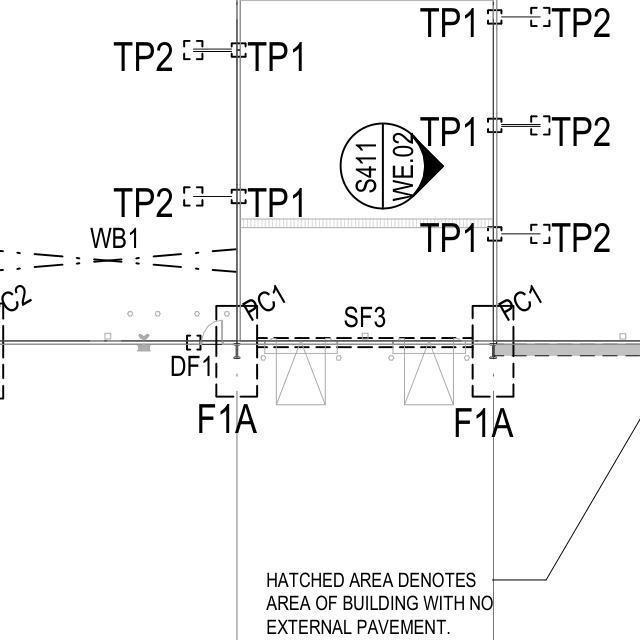DF1: (157, 338, 216, 382)
F1A: (191, 389, 275, 444), (448, 403, 536, 446)
SF3: (332, 285, 393, 333)
TP1: (238, 176, 314, 223), (408, 97, 487, 142), (248, 31, 324, 74), (418, 209, 487, 252), (412, 0, 477, 36)
TP2: (550, 211, 638, 262), (103, 27, 177, 72), (548, 101, 614, 142), (548, 0, 622, 36), (114, 182, 179, 219)
